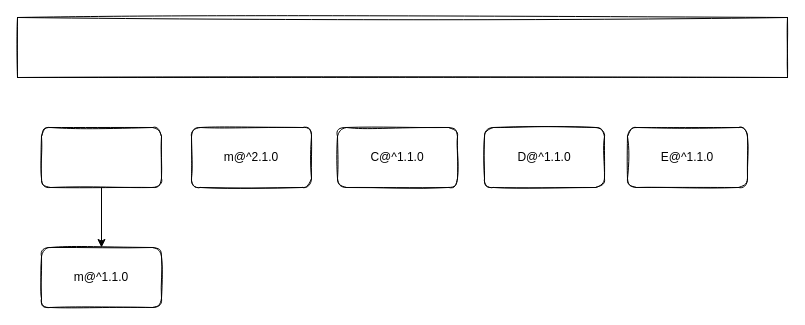
Image size: 805x325. Some labels were removed from this diagram. The shapes that lost their labels are listed below. From the top down, each one's centre as x and y in pixels, then its label:
the point at 402,47: node_modules
the point at 101,157: A@^1.1.0
